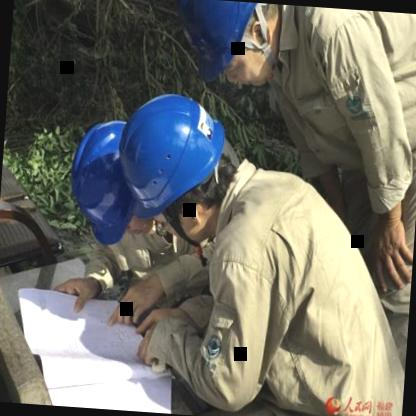helmet: (112, 86, 236, 246), (64, 117, 166, 253), (170, 0, 287, 90)
